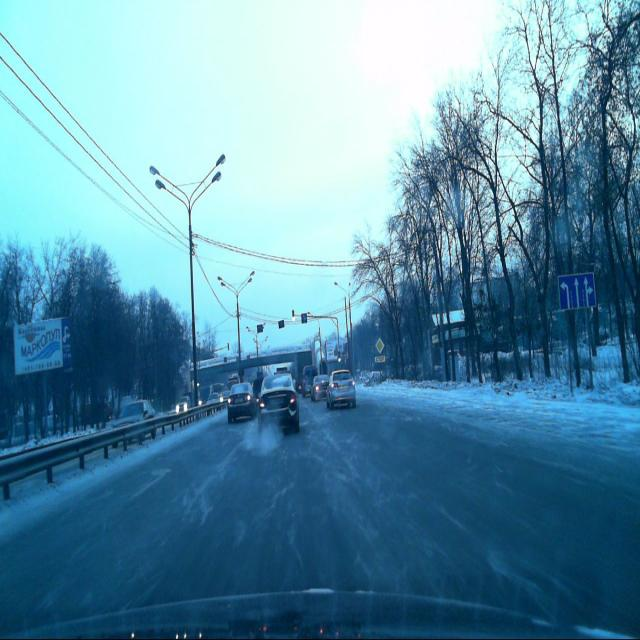road sign: (559, 272, 598, 312), (375, 337, 384, 353)
